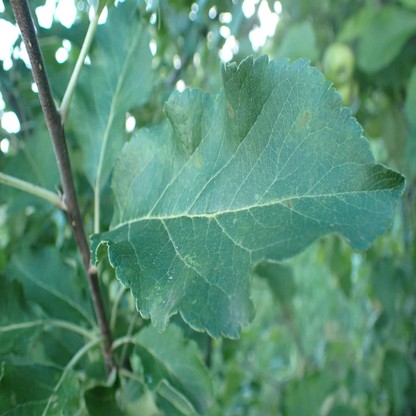powdery_mildew: (225, 297, 244, 327)
scab: (114, 138, 156, 208), (158, 140, 176, 168), (296, 109, 313, 128), (150, 294, 163, 312), (226, 99, 233, 120), (282, 198, 294, 210), (194, 151, 202, 167)
